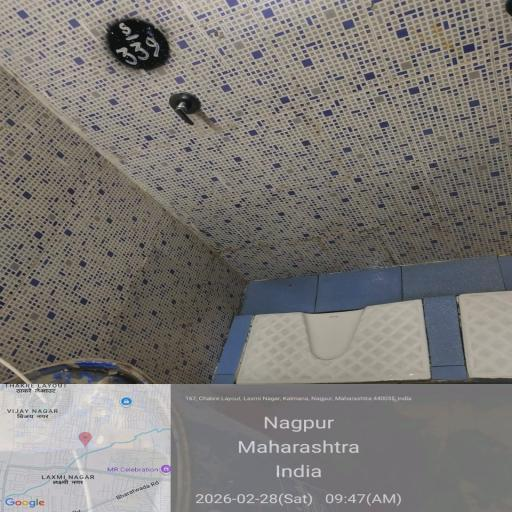clean_floor: (0, 0, 375, 205), (0, 217, 219, 354), (238, 288, 512, 385), (378, 168, 474, 236)
partial_dirty_floor: (393, 18, 481, 82)
